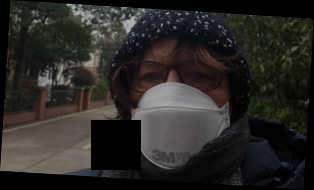with_mask: (126, 51, 231, 170)
